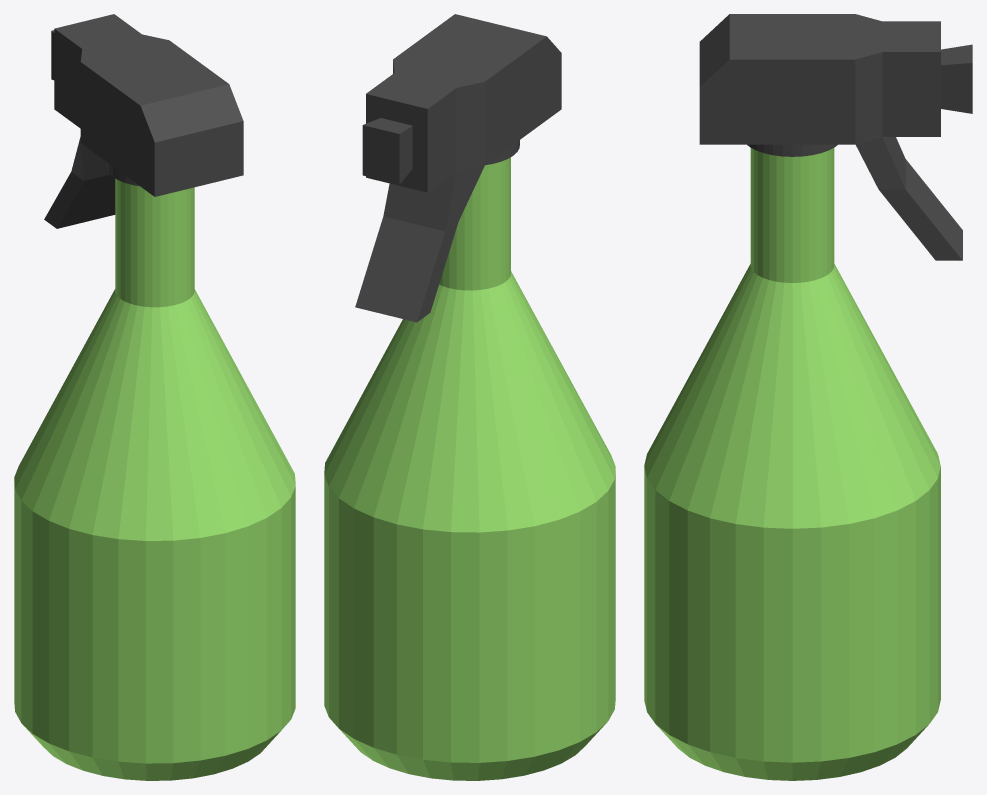
The model's file is squirtBottle.fbx.
3 renders of one model, left to right at view 1: azimuth 30°, elevation 25°; view 2: azimuth 150°, elevation 25°; view 3: azimuth 270°, elevation 25°, orthographic. The views are drawn at different scales.
Parts seen in each view (by area): view 1: Squirt Bottle; view 2: Squirt Bottle; view 3: Squirt Bottle.
Boxes of the visible parts, x1,y1,x2,y2 form: Squirt Bottle: (14, 14, 295, 780); Squirt Bottle: (324, 14, 615, 780); Squirt Bottle: (644, 14, 972, 780).
Bounding box in the file's own units: 23.48 × 26.01 × 60.42.
